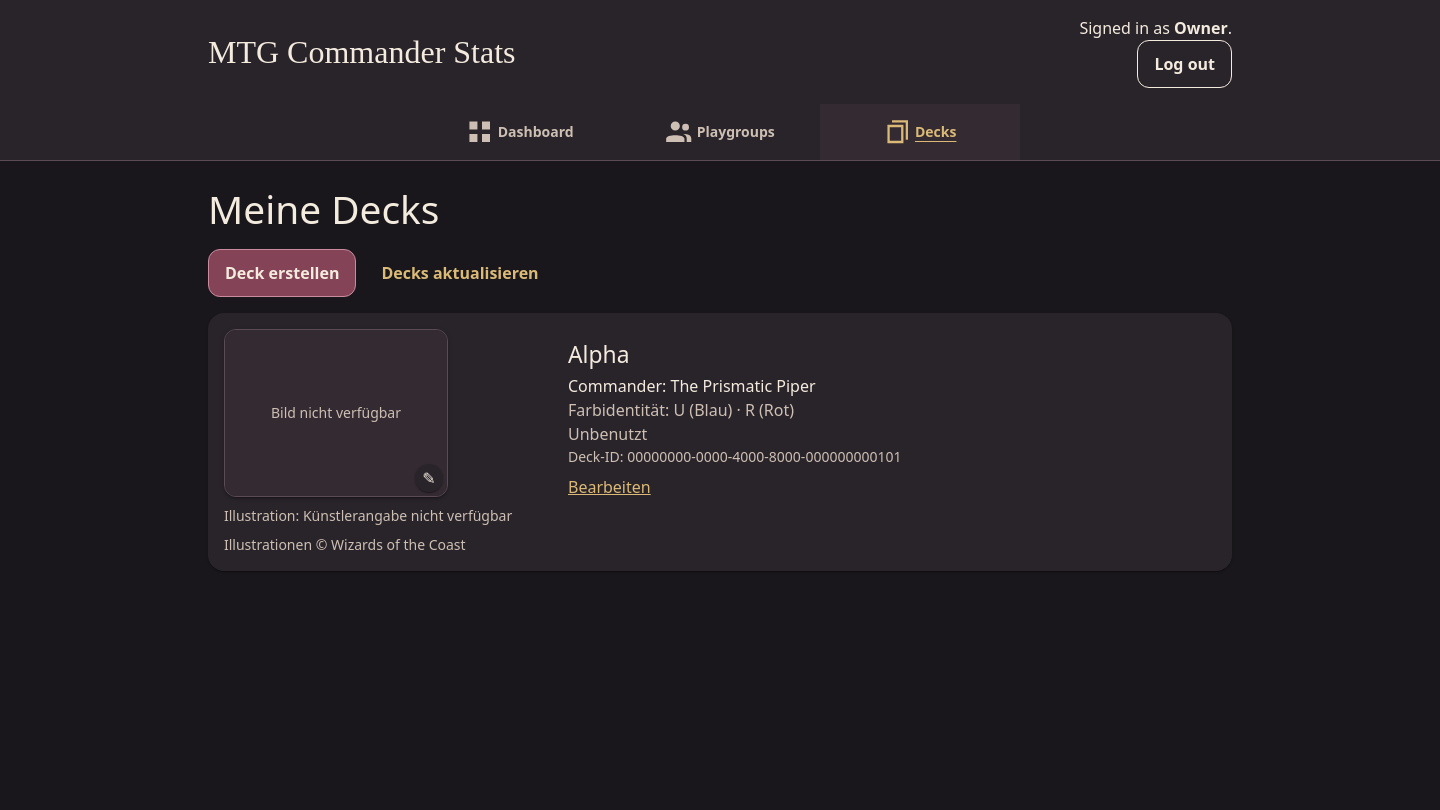
Test: saved choice restores without lookup and name-only edits omit Commanders (used=false)
Click the button with aria-label "Alpha bearbeiten".
click(599, 354)  # box [560,329,1216,507]
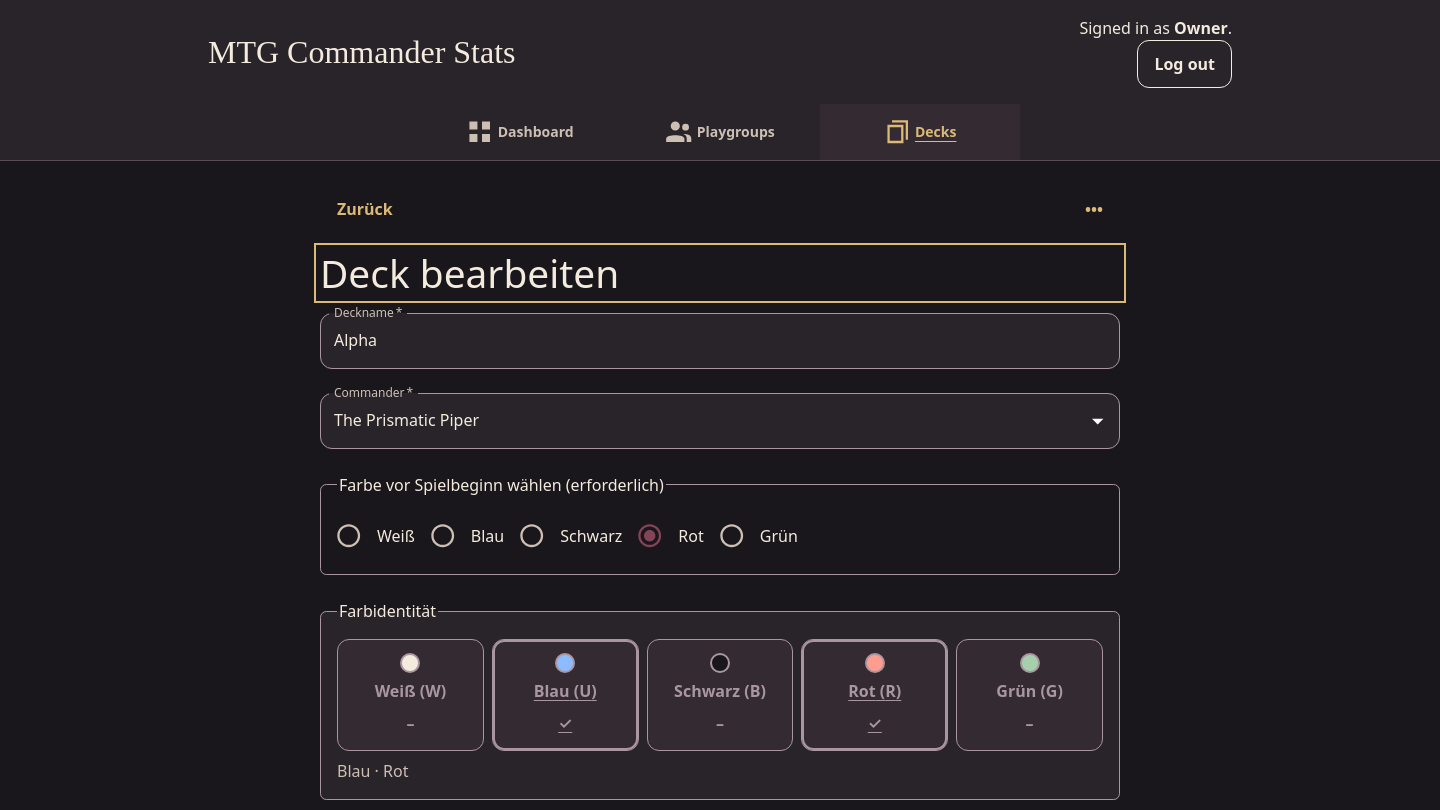
Check: the radio button labelled "Rot" is checked, box [627,513,704,558]
Check: the radio button labelled "Rot" is enabled, box [627,513,704,558]
Replace the text in the field labelled "Deckname *" with "Offline rename" at (720, 341), box [320,313,1120,369]
(page scrolled)
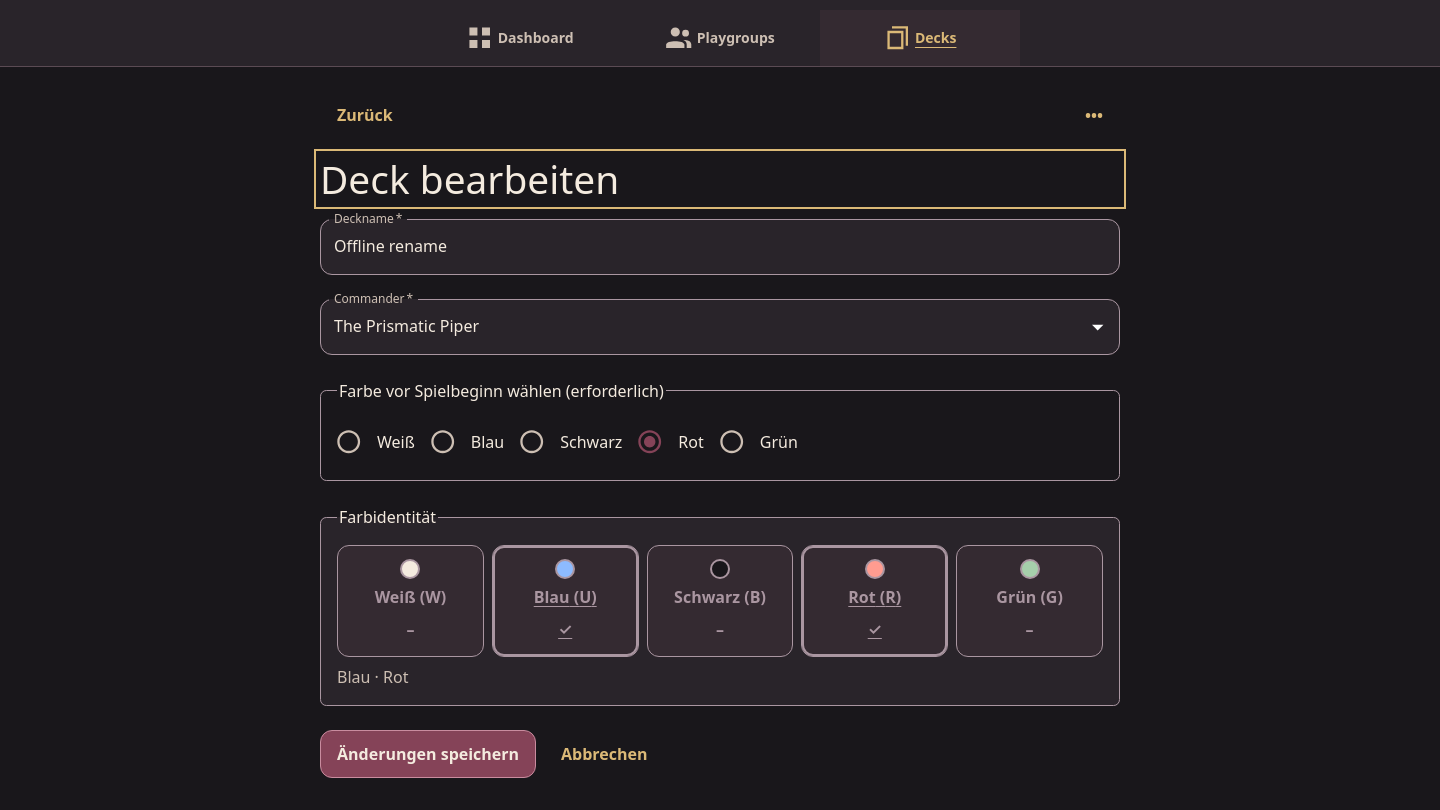
Click the button "Änderungen speichern".
click(428, 754)  # box [320,730,536,778]
(page scrolled)
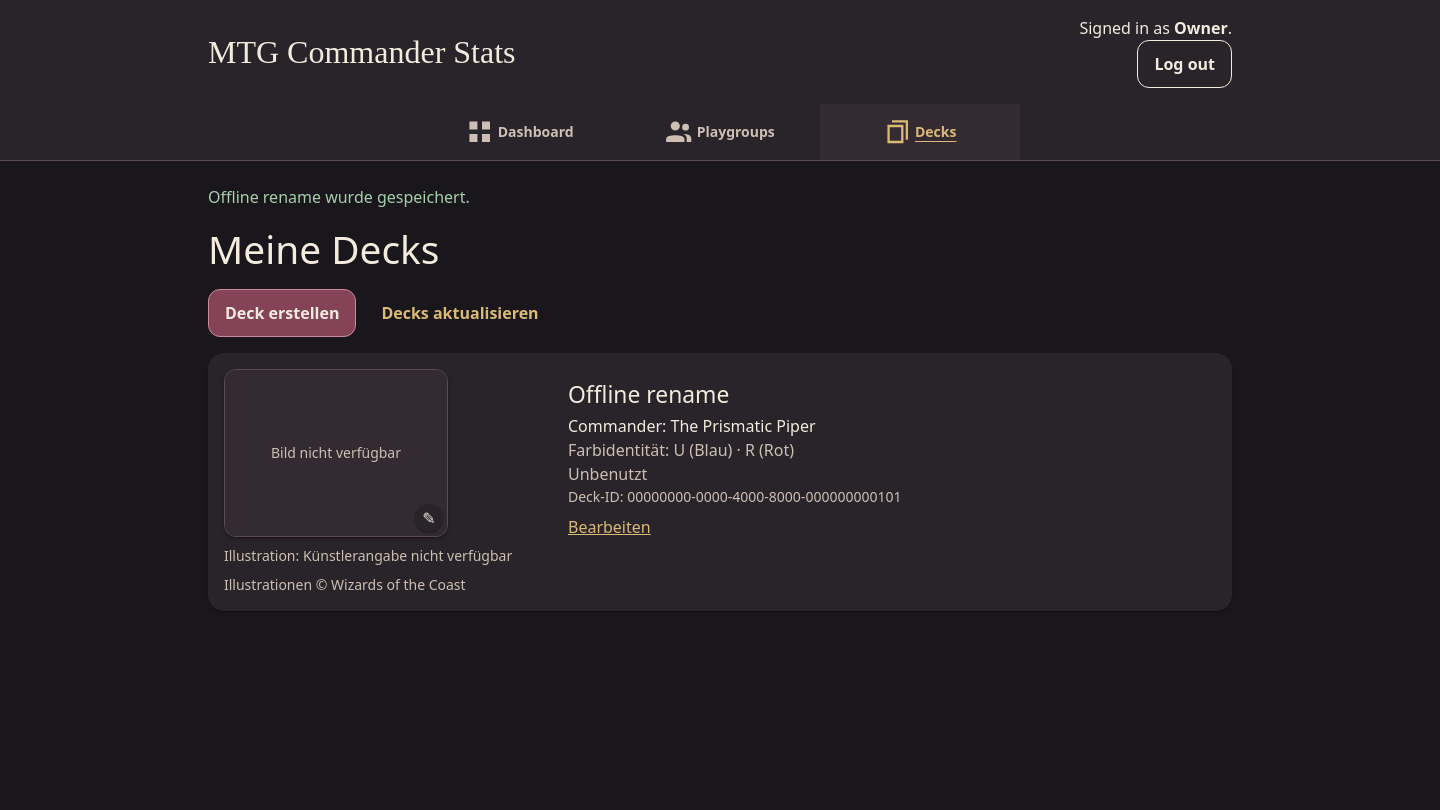
Check: the text "Offline rename wurde gespeichert." is shown, box [208,186,470,208]
